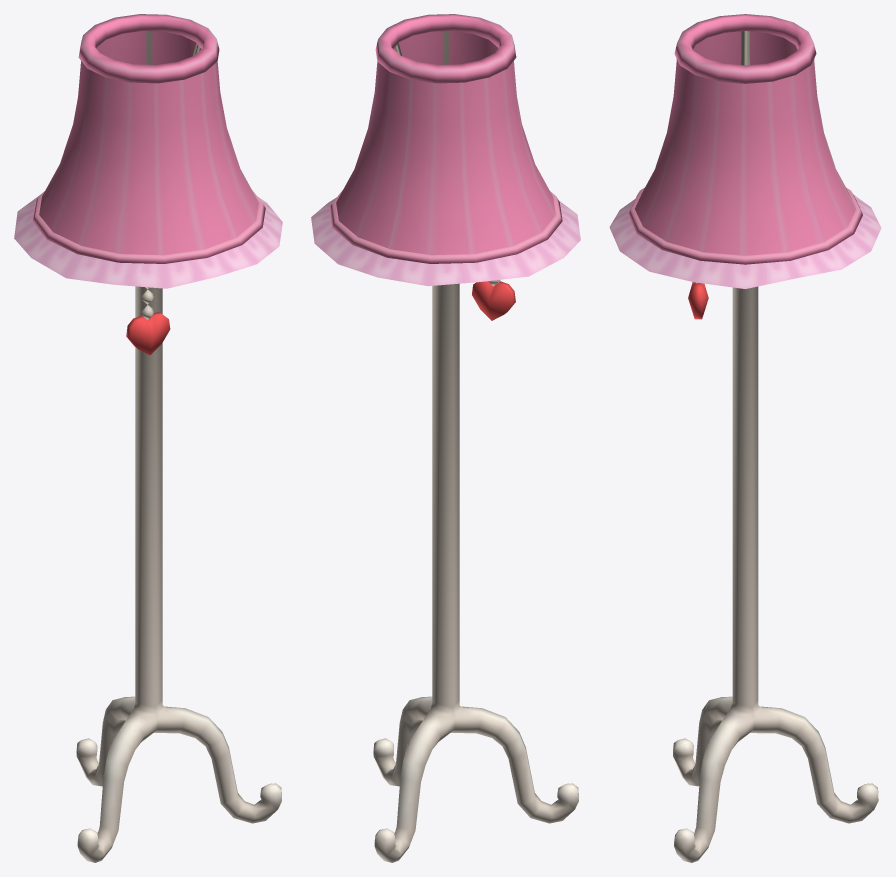
Rendered from cutelamp.glb.
3 renders of one model, left to right at view 1: azimuth 30°, elevation 25°; view 2: azimuth 150°, elevation 25°; view 3: azimuth 270°, elevation 25°, orthographic.
Visible parts, largest first — view 1: LightBulb_low__mReBody; view 2: LightBulb_low__mReBody; view 3: LightBulb_low__mReBody.
Boxes of the visible parts, left/top/right/bottom form: LightBulb_low__mReBody: left=14, top=14, right=282, bottom=862; LightBulb_low__mReBody: left=311, top=14, right=580, bottom=862; LightBulb_low__mReBody: left=609, top=14, right=881, bottom=862.
Size of the model in its own units: 0.5604 by 1.77 by 0.5604.
Materials: 1 (1 with a texture image).
